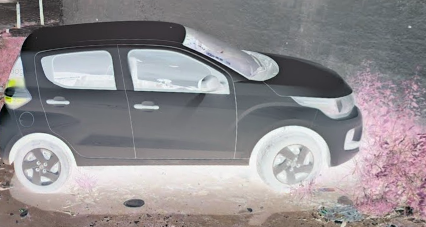car: (2, 21, 366, 191)
